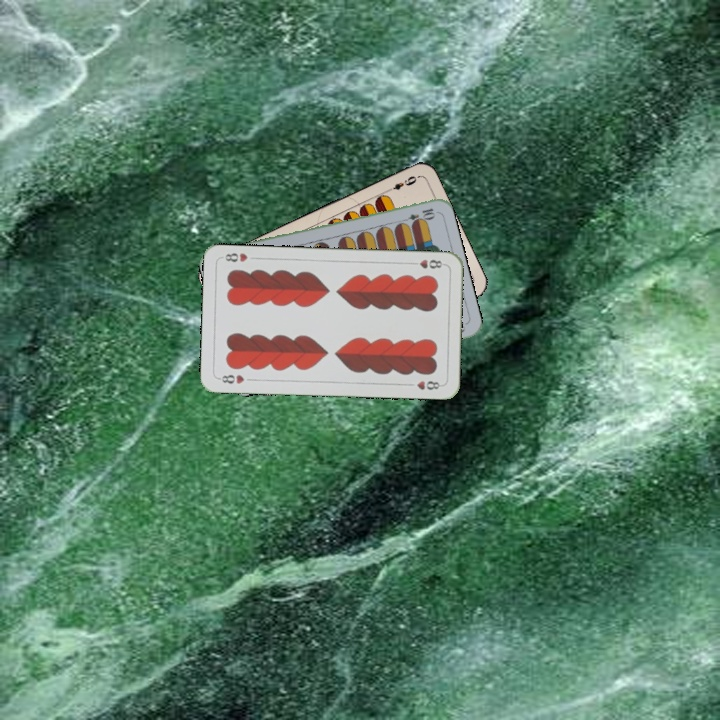E10: (397, 204, 438, 226)
E9: (382, 172, 421, 195)
H8: (407, 256, 447, 271), (215, 370, 247, 386)
